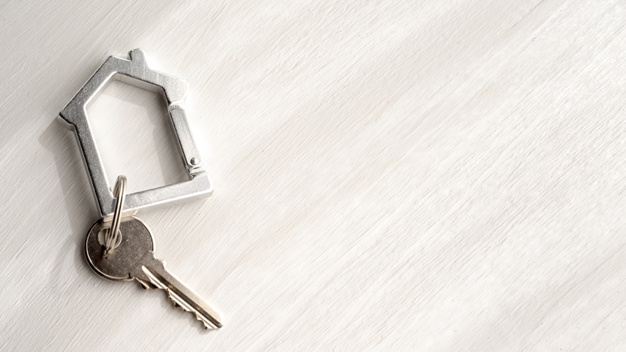key: (80, 211, 224, 334)
